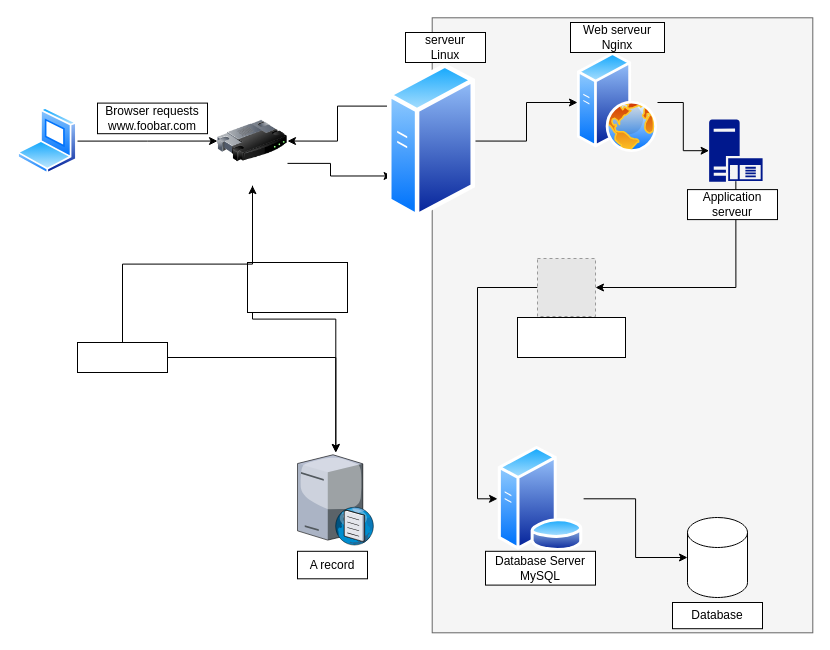
Image size: 830x650. Some labels were removed from this diagram. Grey dashed boxes stand in for pictures. Each missing label, with the box of its shape:
Application files Python: (516, 316, 626, 358)
Asks for the IP mapped to www.foobar.com: (246, 262, 348, 312)
The IP is 8.8.8.8: (76, 342, 168, 372)
